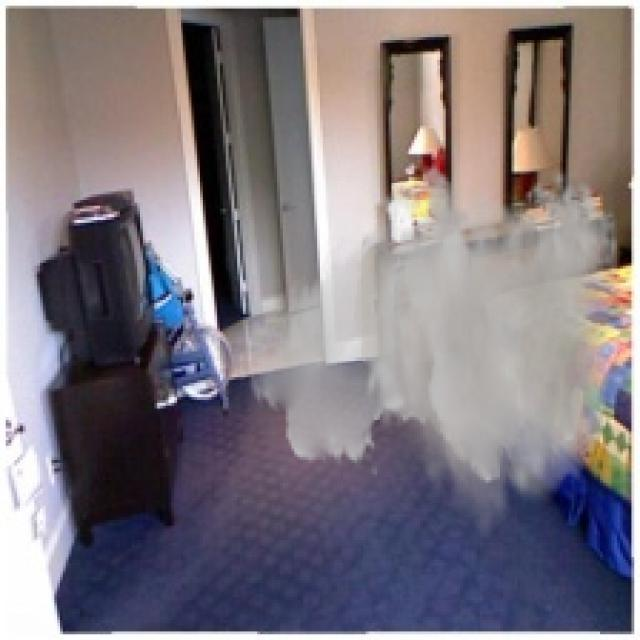smoke: (237, 163, 620, 546)
